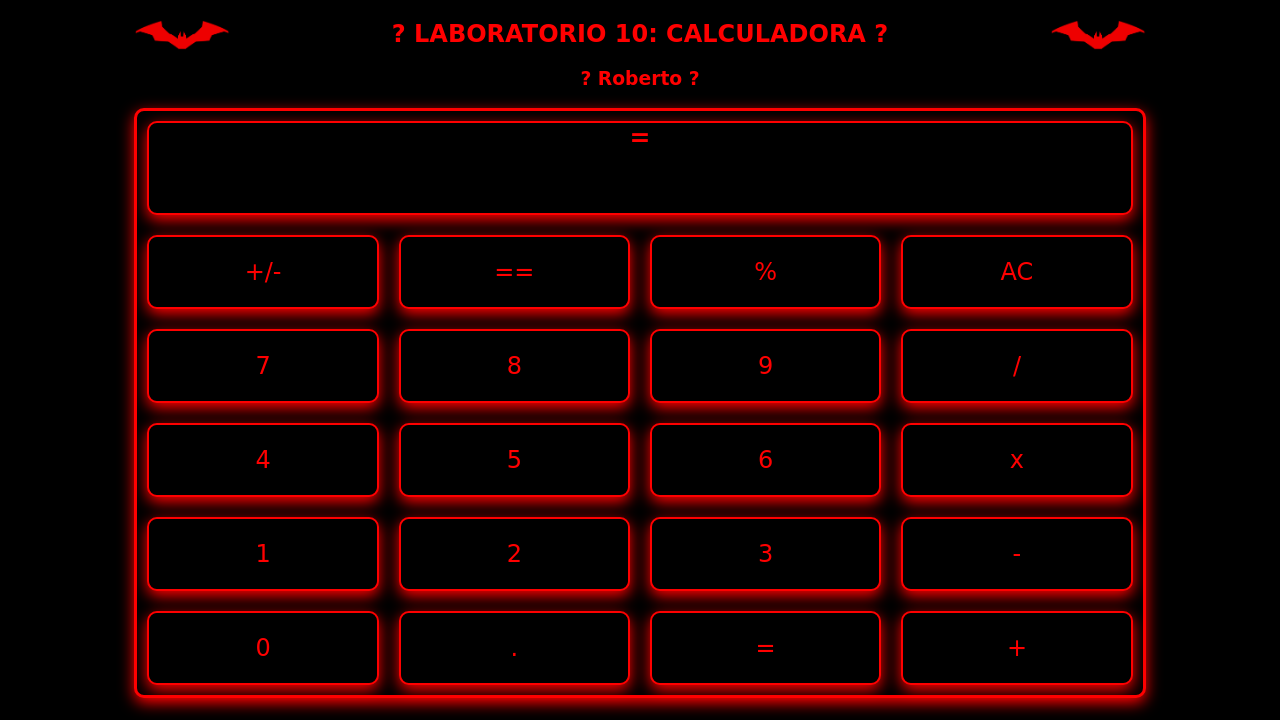
Scenario: tests para la calculadora › introducir la operacion 10 x 10 =, depliga 100 en h3#result
Click the button "1": (263, 554) [149,518,377,588]
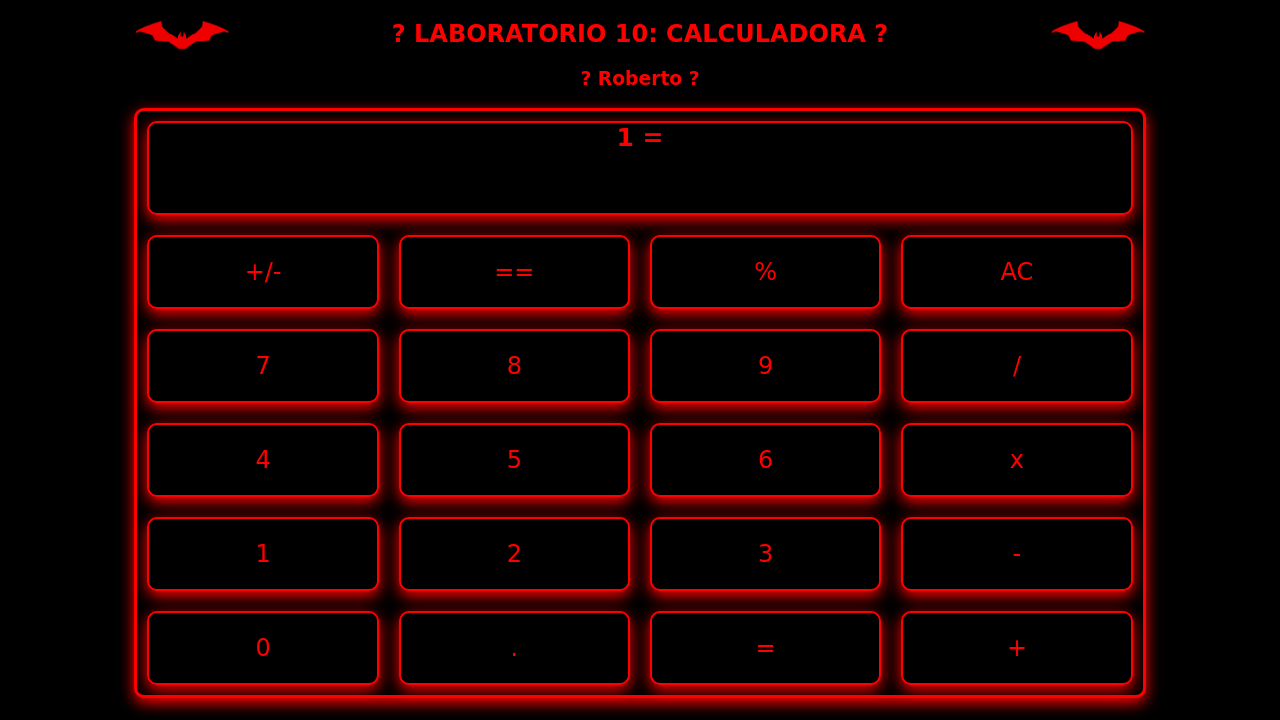
Click the button "0": (263, 648) [149,612,377,682]
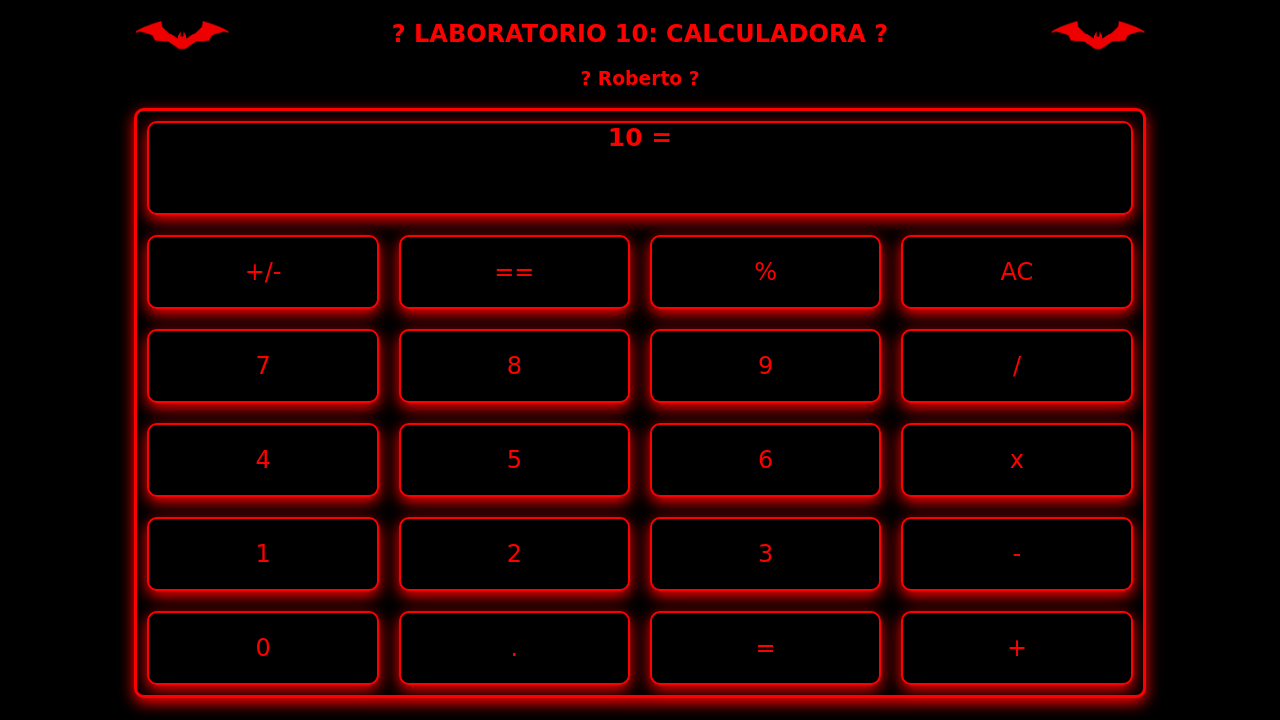
Click the button "x": (1017, 460) [903,424,1131,494]
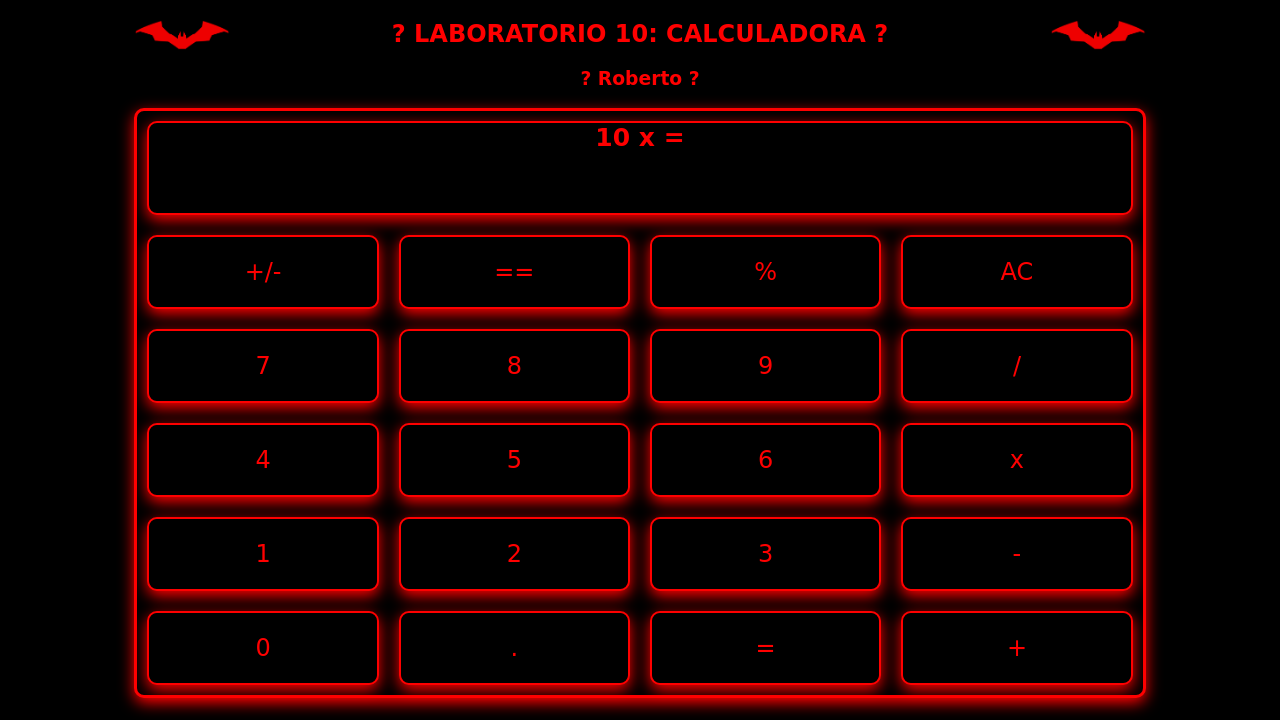
Click the button "1": (263, 554) [149,518,377,588]
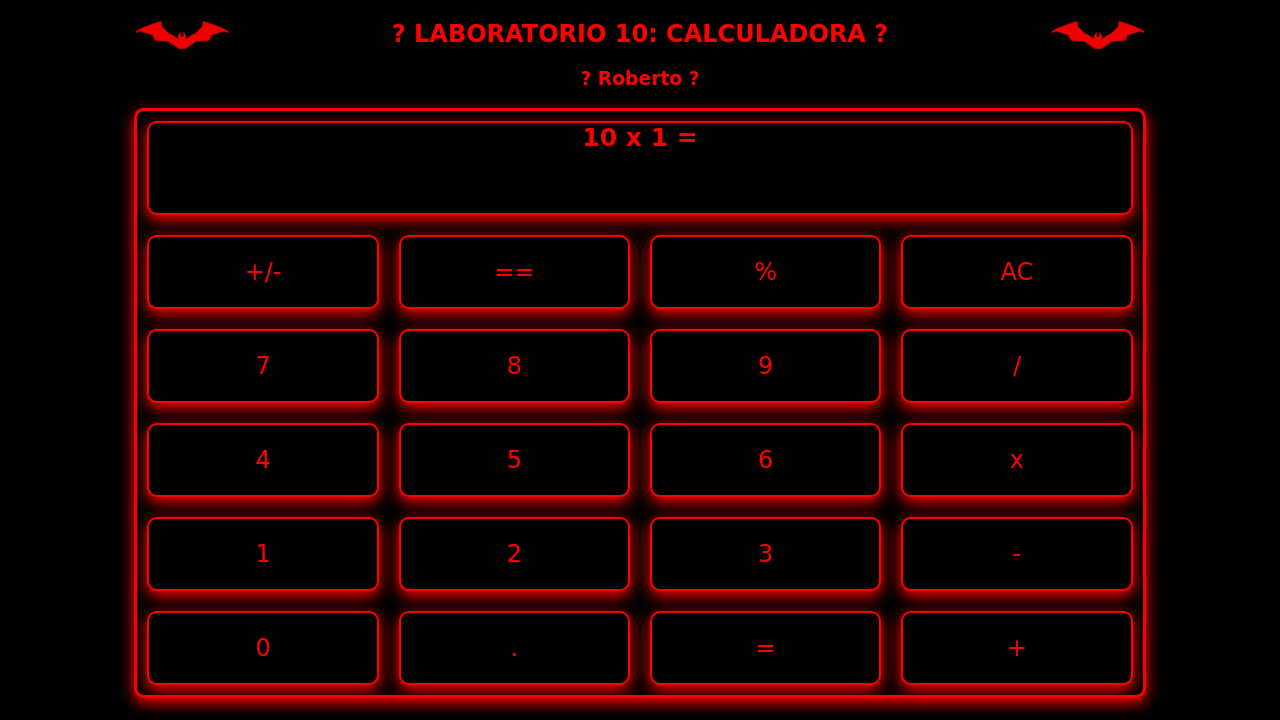
Click the button "0": (263, 648) [149,612,377,682]
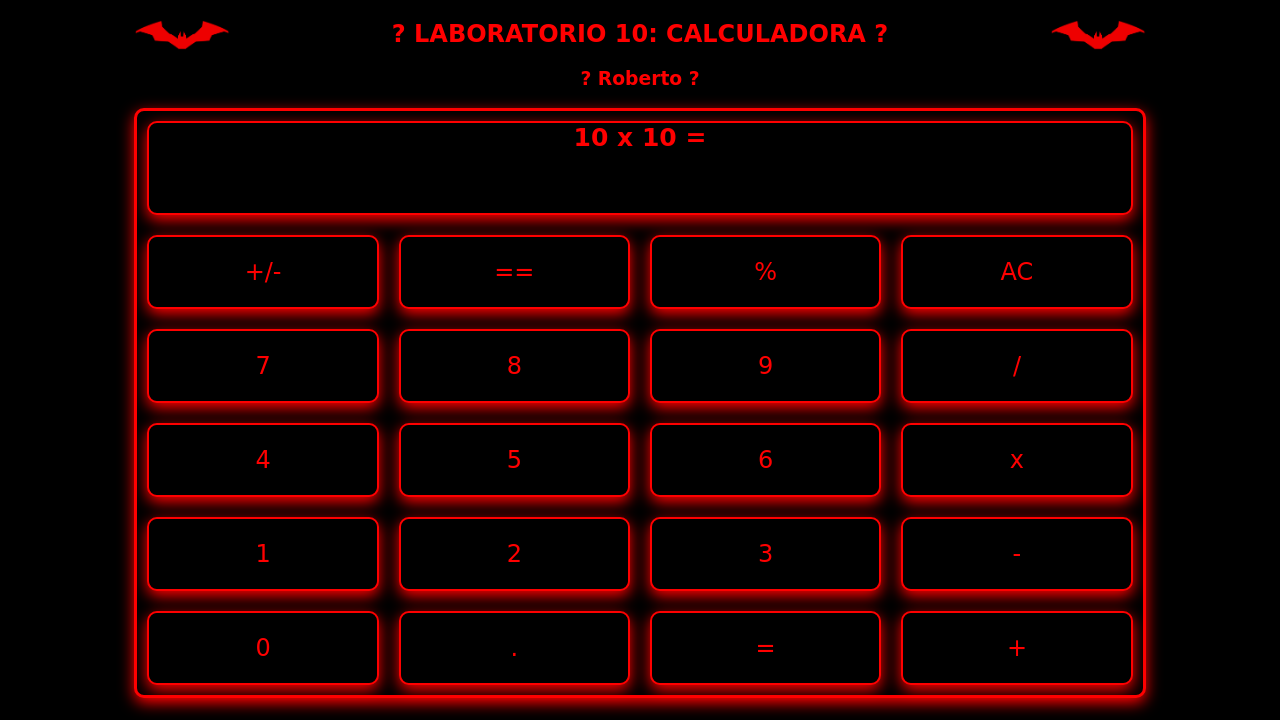
Click the button "=": (766, 648) [652,612,879,682]
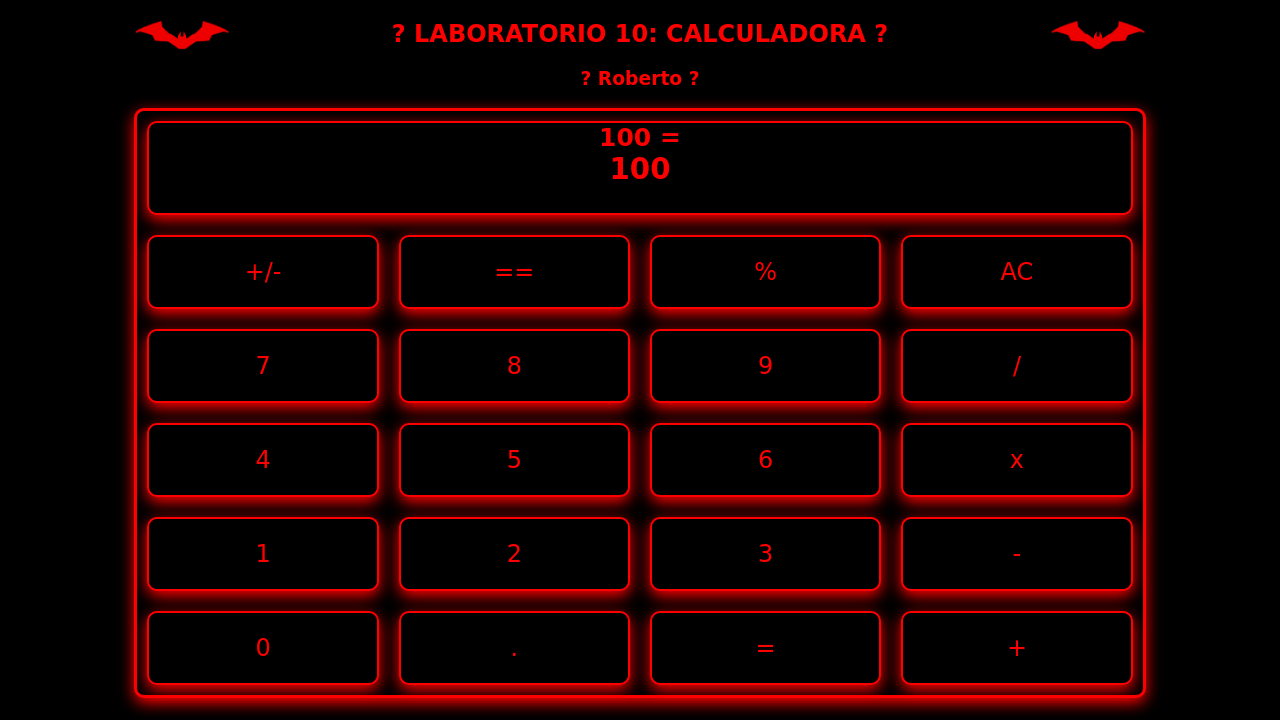
Now the heading with test id "result" reads "100", box [610,152,671,186]
